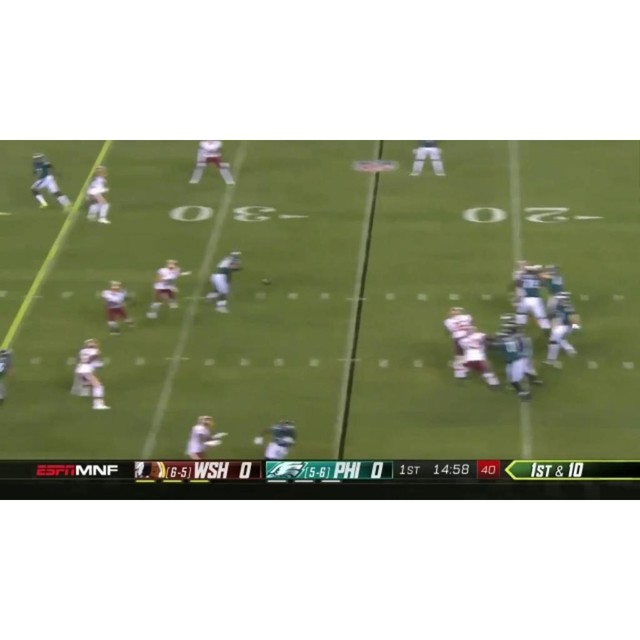american-football-player: (452, 321, 500, 389), (494, 323, 535, 401), (68, 337, 111, 411), (543, 291, 581, 368), (145, 259, 191, 319), (513, 265, 551, 337), (203, 249, 244, 312), (30, 151, 71, 211), (188, 141, 236, 187), (99, 280, 136, 335), (185, 414, 227, 460), (442, 305, 474, 364), (84, 165, 113, 224), (260, 419, 299, 460), (409, 140, 446, 178)
